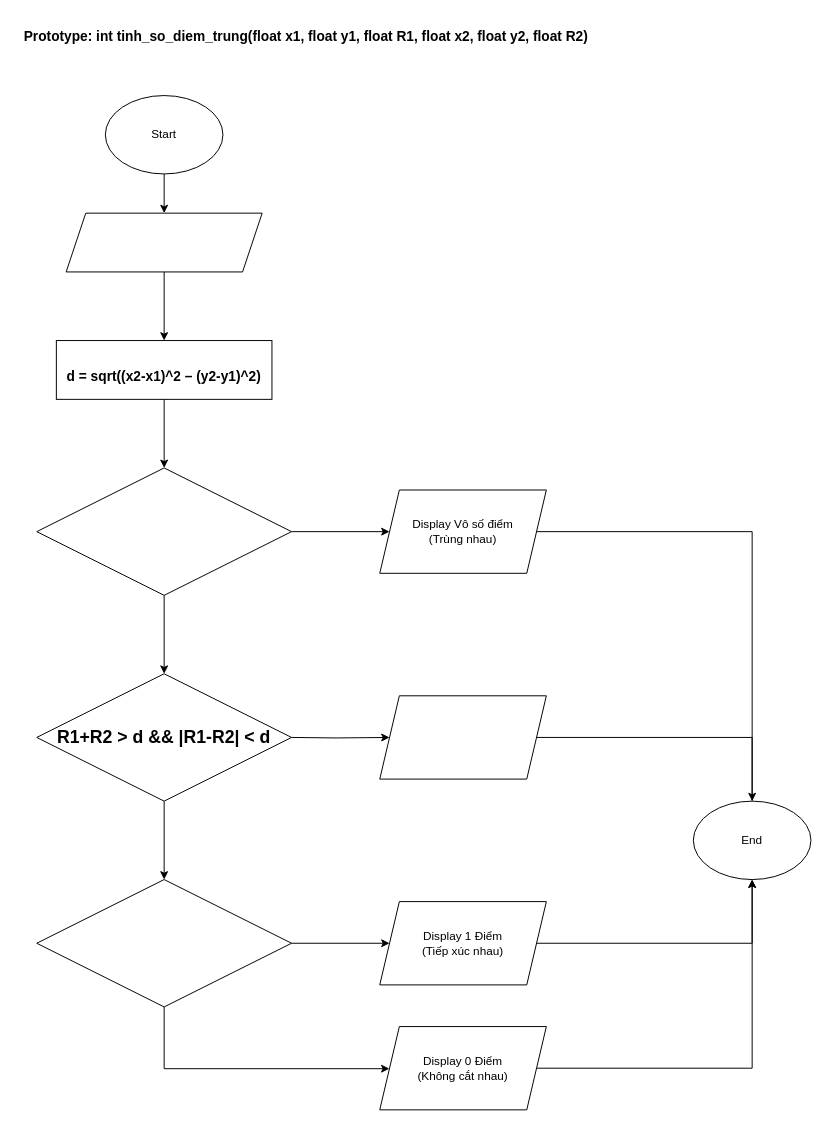
Image size: 828x1127. Some labels were removed from this diagram. The shapes that lost their labels are listed below. From the top down, each one's centre as x and y in pixels, then its label:
the point at 163,242: Input x1, x2, y2, y1, R1, R2
the point at 164,531: x1=x2&&y1=y2 &&R1=R2
the point at 462,737: Display 2 Điểm (Cắt nhau)
the point at 164,943: (|R1-R2| = d) || (R1+R2 = d)
